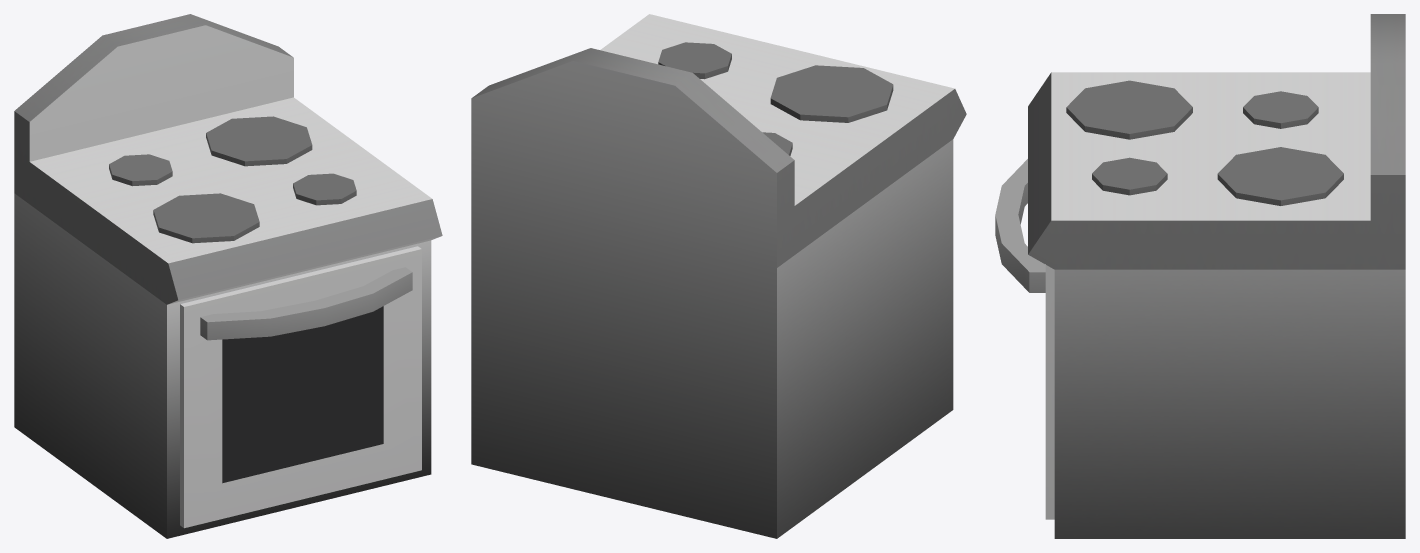
Rendered from Stove.fbx.
The picture shows the model from 3 angles, left to right: view 1: azimuth 30°, elevation 25°; view 2: azimuth 150°, elevation 25°; view 3: azimuth 270°, elevation 25°; orthographic projection. The views are drawn at different scales.
Parts seen in each view (by area): view 1: Stove; view 2: Stove; view 3: Stove.
Part boxes in pixels (x1,y1,x2,y2): Stove: (14, 14, 442, 538); Stove: (471, 14, 966, 538); Stove: (995, 14, 1405, 538).
Size of the model in its own units: 1 by 1.34 by 1.17.
